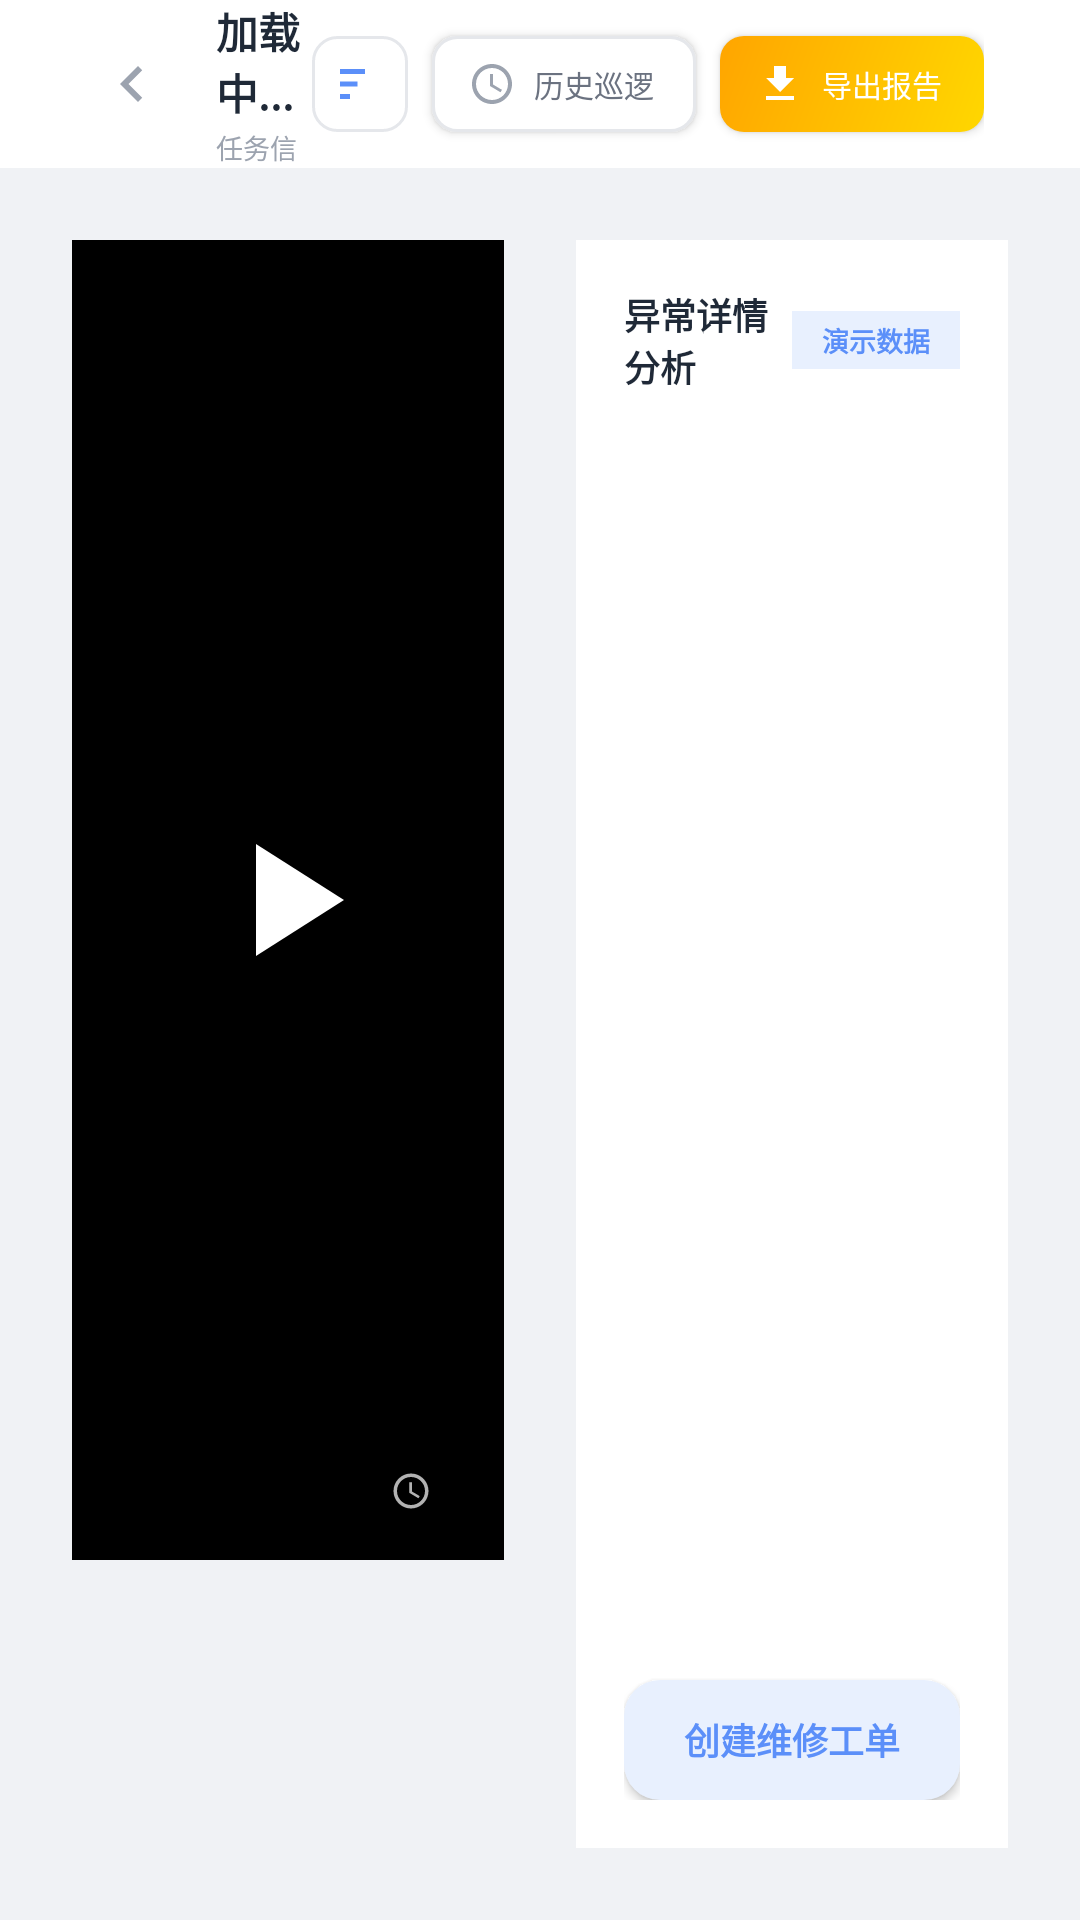

Locate icon controls on the screen. Image size 1080 x 1920, boxes as (x1, y1, x2, y2).
back: (120, 66, 142, 102)
play: (256, 844, 344, 956)
筛选条件: (312, 36, 408, 132)
